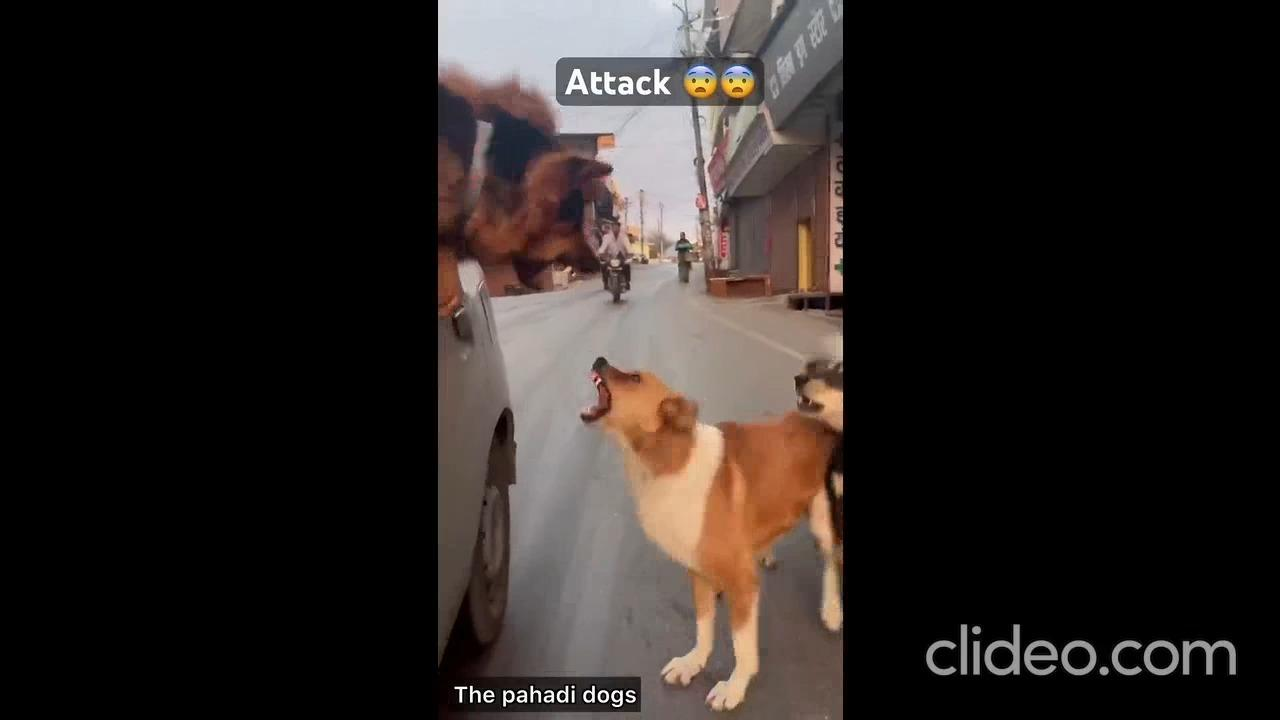dog: (580, 354, 837, 696)
